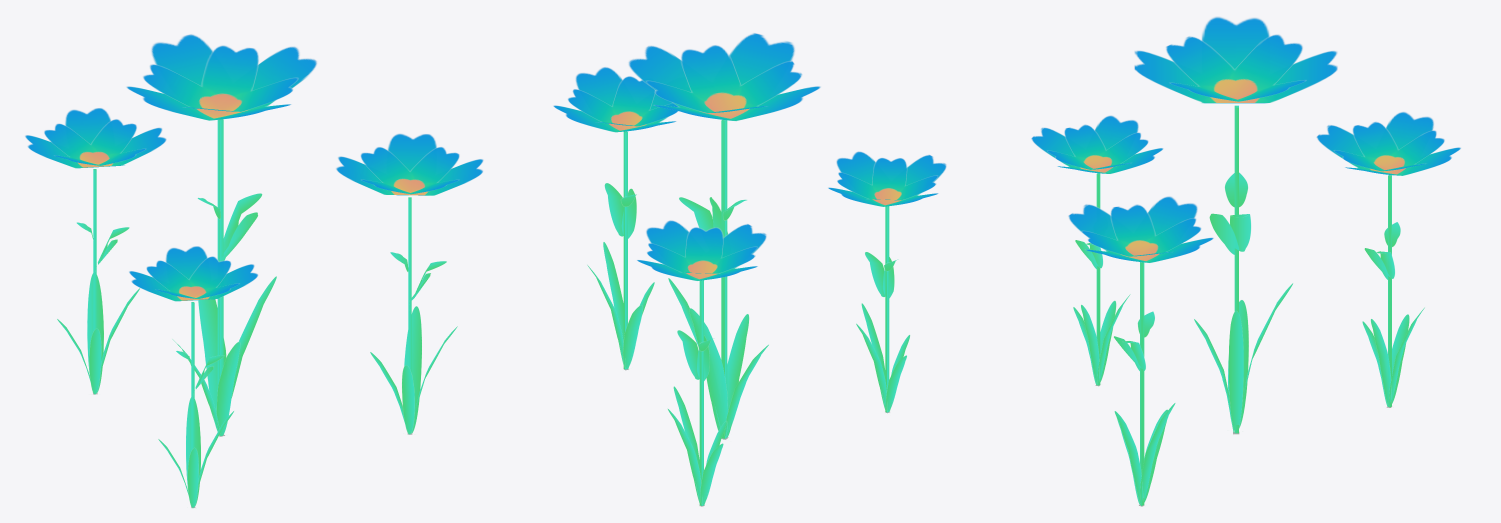
The model's file is Flower_n_09.glb.
The picture shows the model from 3 angles, left to right: view 1: azimuth 30°, elevation 25°; view 2: azimuth 150°, elevation 25°; view 3: azimuth 270°, elevation 25°; orthographic projection. The views are drawn at different scales.
Visible parts, largest first — view 1: polySurface431; view 2: polySurface431; view 3: polySurface431.
Boxes of the visible parts, x1=… form: polySurface431: x1=25, y1=34, x2=483, y2=508; polySurface431: x1=553, y1=33, x2=946, y2=506; polySurface431: x1=1031, y1=16, x2=1461, y2=506.
Size of the model in its own units: 0.7465 by 0.6428 by 0.7394.
2 materials, 1 textured.
